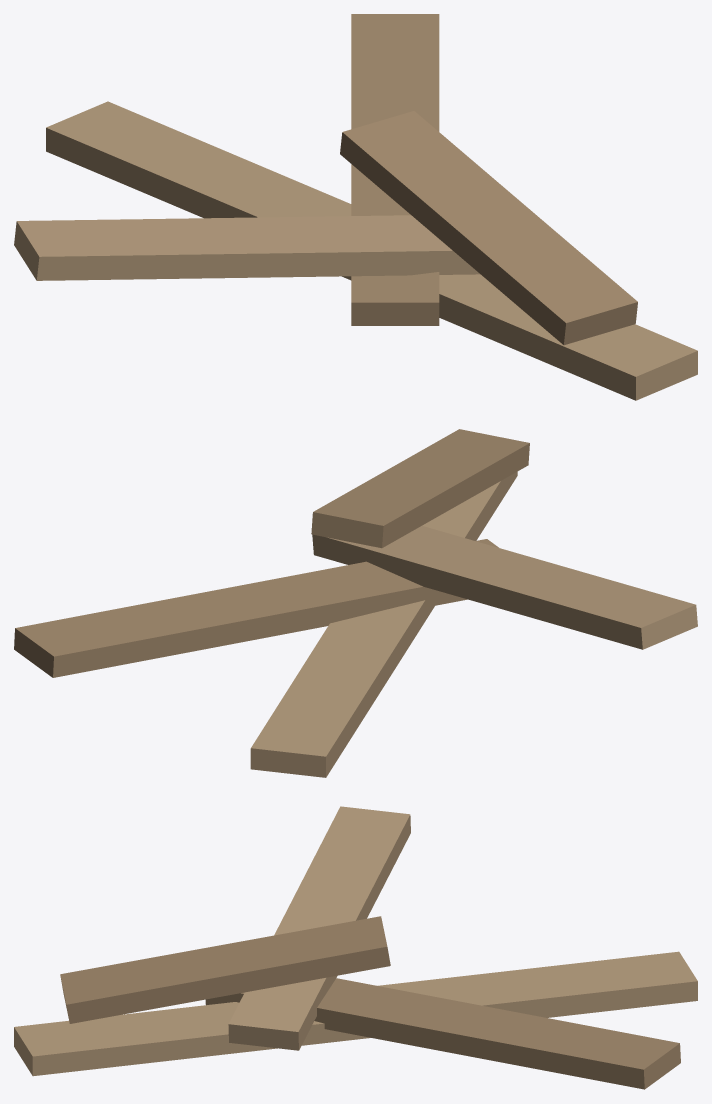
Rendered from prop_debris_planks.fbx.
The picture shows the model from 3 angles, top to bottom: view 1: azimuth 30°, elevation 25°; view 2: azimuth 150°, elevation 25°; view 3: azimuth 270°, elevation 25°; orthographic projection. The views are drawn at different scales.
Parts seen in each view (by area): view 1: prop_debris_planks; view 2: prop_debris_planks; view 3: prop_debris_planks.
Boxes of the visible parts, x1,y1,x2,y2 form: prop_debris_planks: [14, 14, 697, 400]; prop_debris_planks: [14, 429, 697, 777]; prop_debris_planks: [14, 806, 697, 1089].
Size of the model in its own units: 0.7711 by 0.155 by 0.9435.
